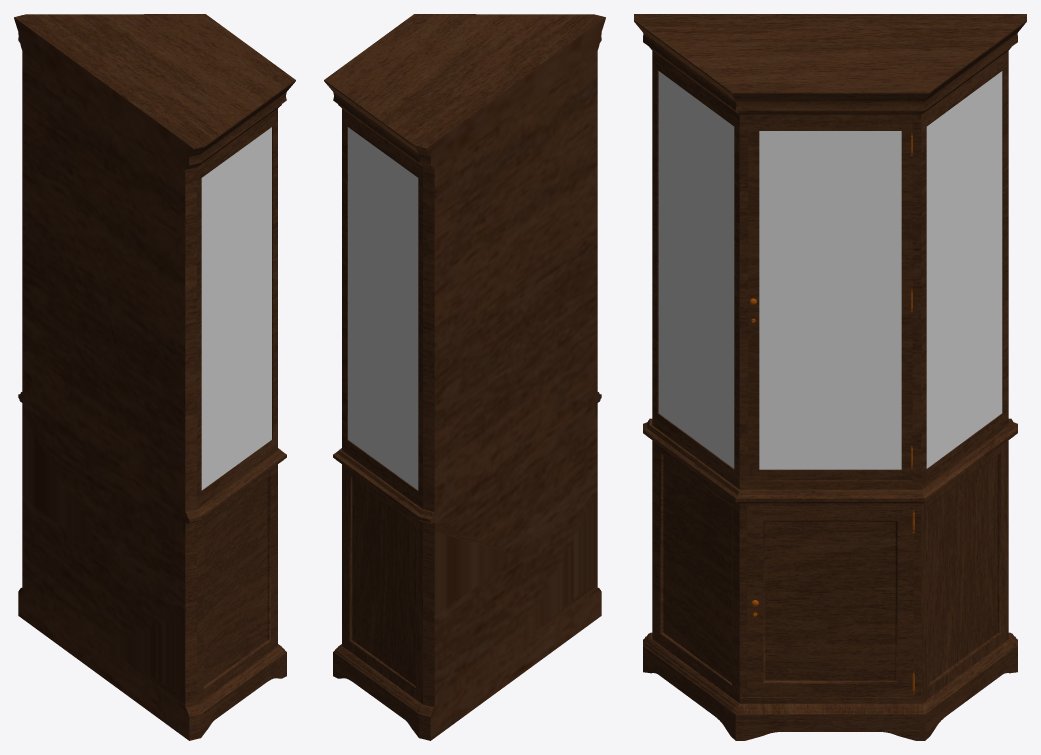
Rendered from wardrobe2.fbx.
The picture shows the model from 3 angles, left to right: view 1: azimuth 30°, elevation 25°; view 2: azimuth 150°, elevation 25°; view 3: azimuth 270°, elevation 25°; orthographic projection. The views are drawn at different scales.
Parts seen in each view (by area): view 1: Cube.003, Cube.001, Cube.005, Cube.002; view 2: Cube.003, Cube.001, Cube.005, Cube.002; view 3: Cube.005, Cube.002, Cube.001, Cube.004.
Part boxes in pixels (left/top/right/bottom): Cube.003: left=18, top=51, right=189, bottom=740; Cube.001: left=14, top=14, right=295, bottom=511; Cube.005: left=201, top=127, right=271, bottom=490; Cube.002: left=18, top=392, right=286, bottom=740; Cube.003: left=430, top=51, right=601, bottom=740; Cube.001: left=324, top=14, right=605, bottom=511; Cube.005: left=348, top=127, right=418, bottom=490; Cube.002: left=333, top=392, right=601, bottom=740; Cube.005: left=658, top=71, right=1002, bottom=469; Cube.002: left=643, top=418, right=1017, bottom=740; Cube.001: left=634, top=14, right=1026, bottom=489; Cube.004: left=748, top=123, right=912, bottom=480.
Bounding box in the file's own units: 1240 × 4799 × 2620.
Materials: 6 (5 with a texture image).
